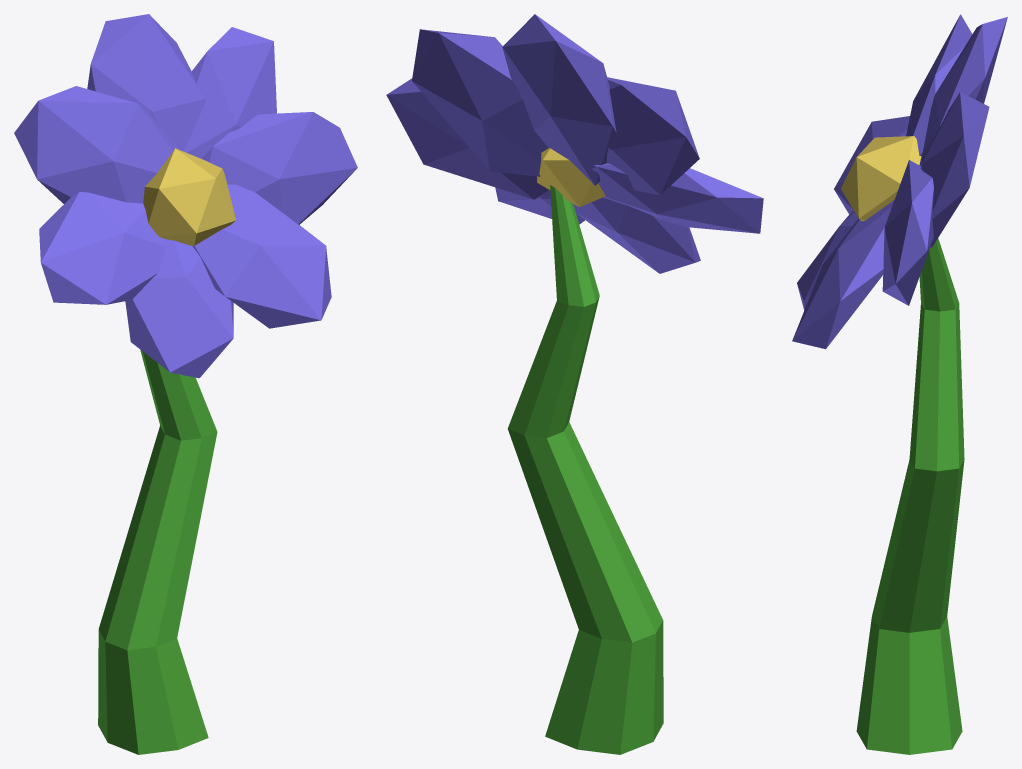
File: flower_3.fbx
The picture shows the model from 3 angles, left to right: view 1: azimuth 30°, elevation 25°; view 2: azimuth 150°, elevation 25°; view 3: azimuth 270°, elevation 25°; orthographic projection. The views are drawn at different scales.
Visible parts, largest first — view 1: Cube.001; view 2: Cube.001; view 3: Cube.001.
Part boxes in pixels (left/top/right/bottom): Cube.001: left=14, top=14, right=357, bottom=754; Cube.001: left=386, top=14, right=763, bottom=754; Cube.001: left=792, top=14, right=1007, bottom=754.
Bounding box in the file's own units: 682 × 1359 × 368.
